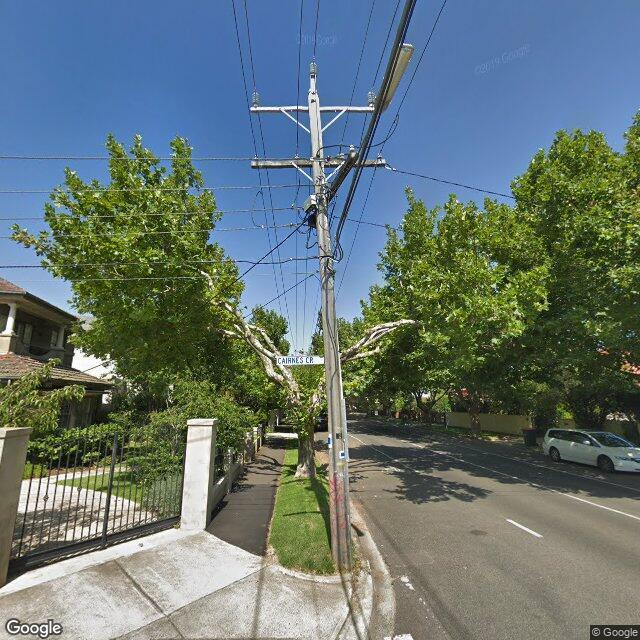HV-transmission: (249, 59, 377, 115)
crossarm: (251, 152, 388, 170), (326, 150, 358, 202), (250, 105, 378, 115)
streetlight: (325, 42, 414, 271)
timber-pole: (310, 92, 348, 568)
